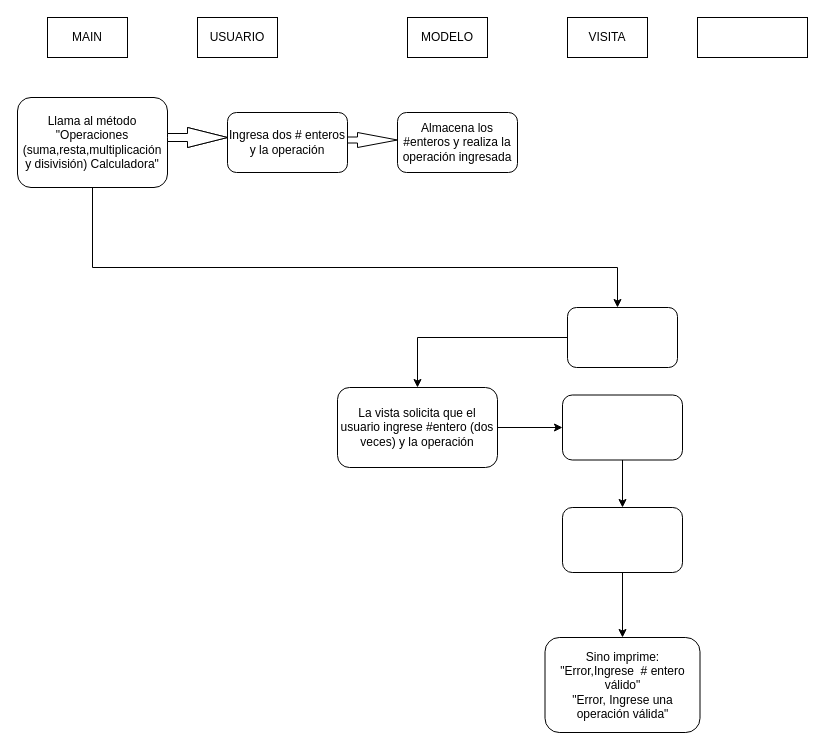
The diagram is 825 pixels wide and 750 high, and some of its shapes have lost their labels. The centre of each missing label's shape, as x and y in pixels:
"CONTROLADOR" goes at (x=752, y=37).
"Imprime los datos en la consola" goes at (x=622, y=539).
"La vista se inicia" goes at (x=622, y=337).
"recibe los detalles" goes at (x=622, y=427).
